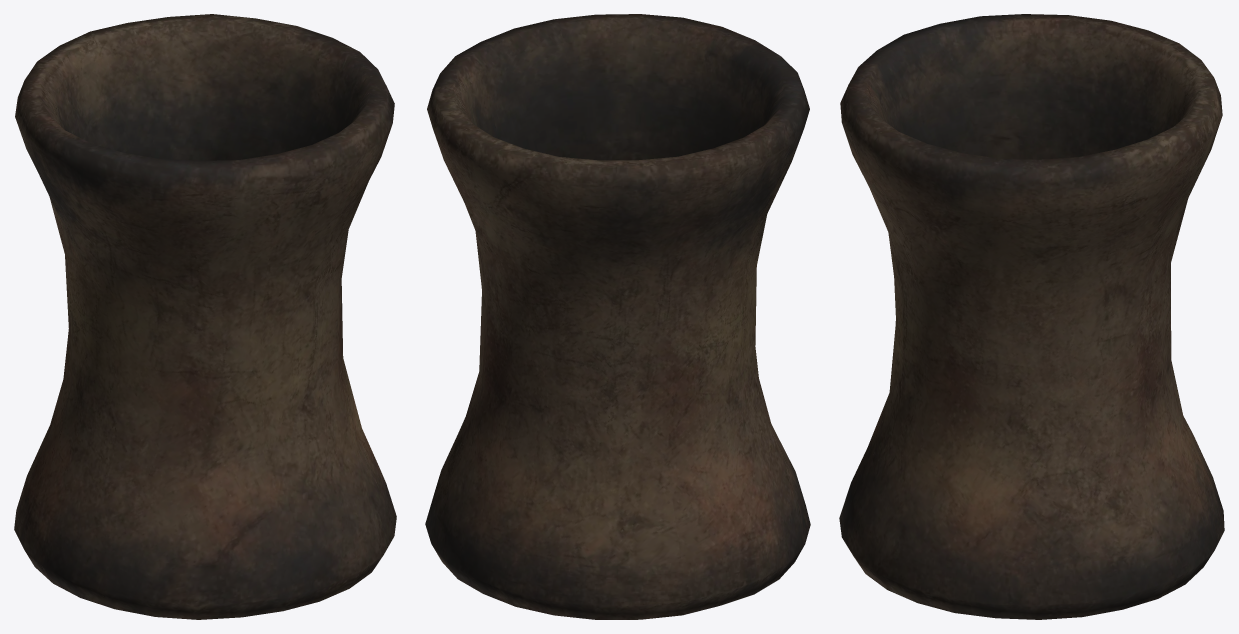
Rendered from SM_Hoguera.glb.
3 renders of one model, left to right at view 1: azimuth 30°, elevation 25°; view 2: azimuth 150°, elevation 25°; view 3: azimuth 270°, elevation 25°, orthographic.
Parts seen in each view (by area): view 1: SM_Hoguera; view 2: SM_Hoguera; view 3: SM_Hoguera.
Boxes of the visible parts, x1=… form: SM_Hoguera: x1=14, y1=14, x2=396, y2=619; SM_Hoguera: x1=425, y1=14, x2=810, y2=619; SM_Hoguera: x1=839, y1=14, x2=1224, y2=619.
Size of the model in its own units: 0.3281 by 0.4295 by 0.3283.
Materials: 1 (1 with a texture image).
